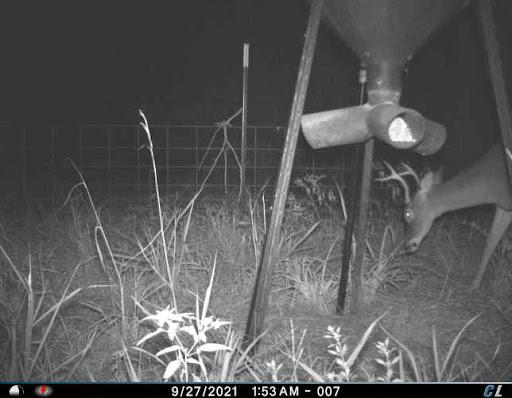Deer: (375, 141, 512, 301)
